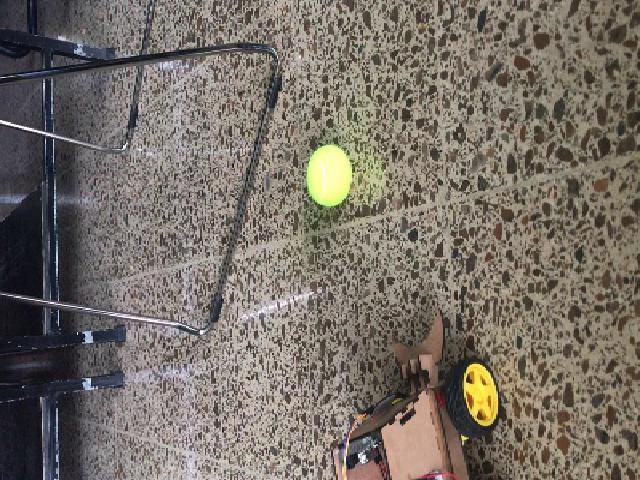Ball: (307, 145, 352, 206)
Robot: (330, 307, 501, 476)
